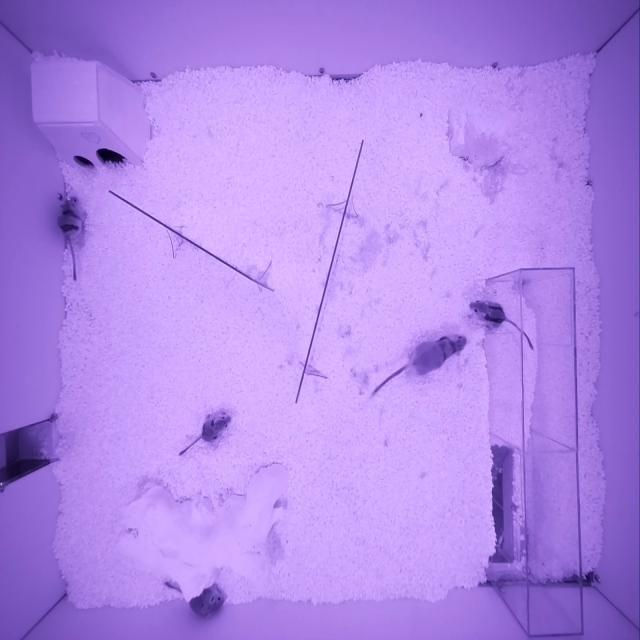adult_front: (409, 333, 468, 375)
pup_fluffy: (188, 583, 228, 616)
pup_h_stripe: (57, 196, 88, 242)
pup_spotted: (201, 412, 231, 443)
pup_v_stripe: (468, 299, 505, 328)
